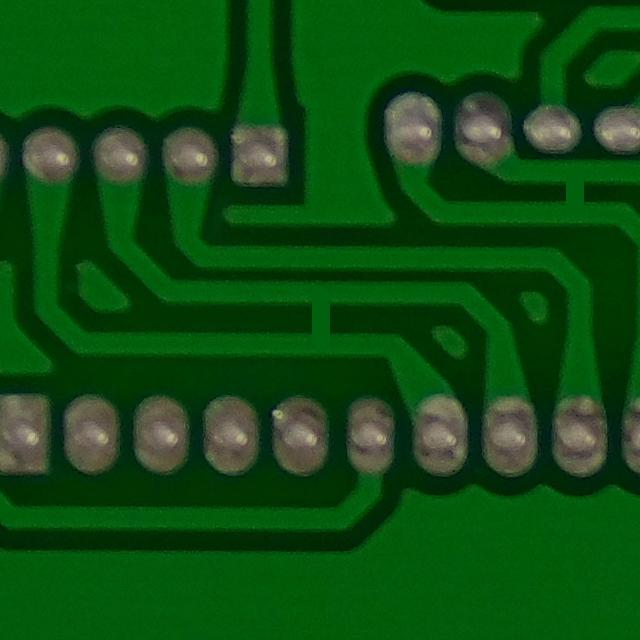short: (272, 276, 369, 364)
